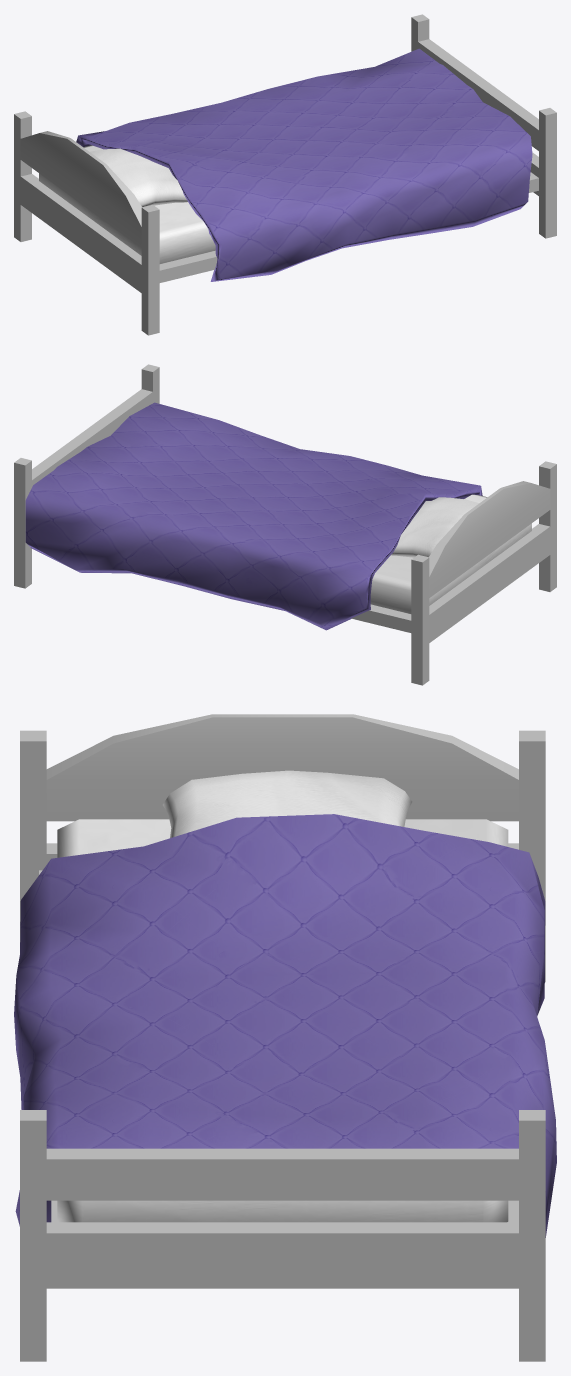
File: bed.fbx
The picture shows the model from 3 angles, top to bottom: view 1: azimuth 30°, elevation 25°; view 2: azimuth 150°, elevation 25°; view 3: azimuth 270°, elevation 25°; orthographic projection. The views are drawn at different scales.
Parts seen in each view (by area): view 1: blanketNeat, polySurface4, polySurface6, polySurface7, mattress, pillow, polySurface3, polySurface2, pCube3; view 2: blanketNeat, polySurface4, polySurface6, polySurface7, mattress, pillow, polySurface3, polySurface2, pCube3; view 3: blanketNeat, polySurface4, polySurface1, polySurface2, mattress, polySurface3, pillow, polySurface7.
Part boxes in pixels (left/top/right/bottom): blanketNeat: left=76, top=48, right=532, bottom=281; polySurface4: left=20, top=131, right=141, bottom=247; polySurface6: left=20, top=174, right=141, bottom=292; polySurface7: left=14, top=111, right=159, bottom=335; mattress: left=39, top=145, right=215, bottom=263; pillow: left=90, top=148, right=187, bottom=207; polySurface3: left=411, top=14, right=556, bottom=238; polySurface2: left=418, top=39, right=538, bottom=150; pCube3: left=159, top=172, right=538, bottom=282; blanketNeat: left=25, top=402, right=482, bottom=630; polySurface4: left=429, top=481, right=550, bottom=597; polySurface6: left=429, top=524, right=550, bottom=642; polySurface7: left=411, top=461, right=556, bottom=685; mattress: left=370, top=494, right=531, bottom=613; pillow: left=391, top=497, right=479, bottom=557; polySurface3: left=14, top=364, right=159, bottom=588; polySurface2: left=32, top=389, right=152, bottom=486; pCube3: left=351, top=604, right=411, bottom=632; blanketNeat: left=14, top=814, right=556, bottom=1237; polySurface4: left=46, top=714, right=518, bottom=821; polySurface1: left=46, top=1222, right=518, bottom=1288; polySurface2: left=46, top=1148, right=518, bottom=1200; mattress: left=57, top=819, right=508, bottom=1222; polySurface3: left=20, top=1110, right=545, bottom=1361; pillow: left=163, top=770, right=412, bottom=837; polySurface7: left=20, top=730, right=545, bottom=982.
Size of the model in its own units: 7.82 by 2.44 by 4.6.
